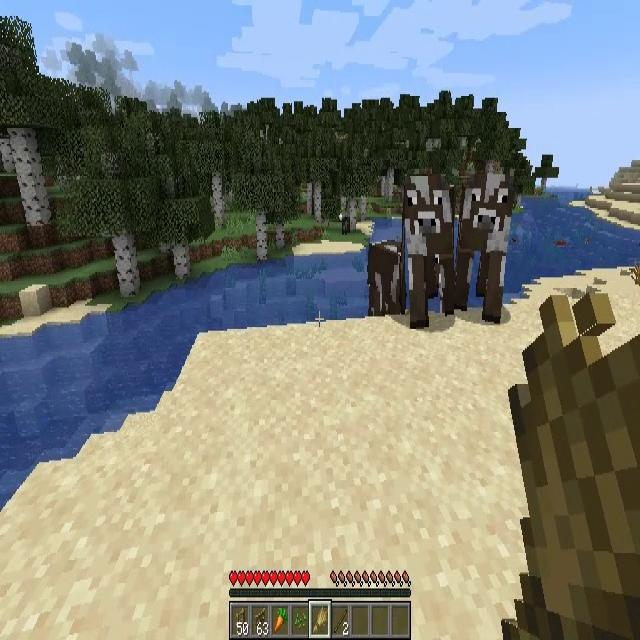cow: (456, 173, 516, 310), (405, 174, 454, 329), (368, 230, 420, 317), (342, 215, 350, 237)
